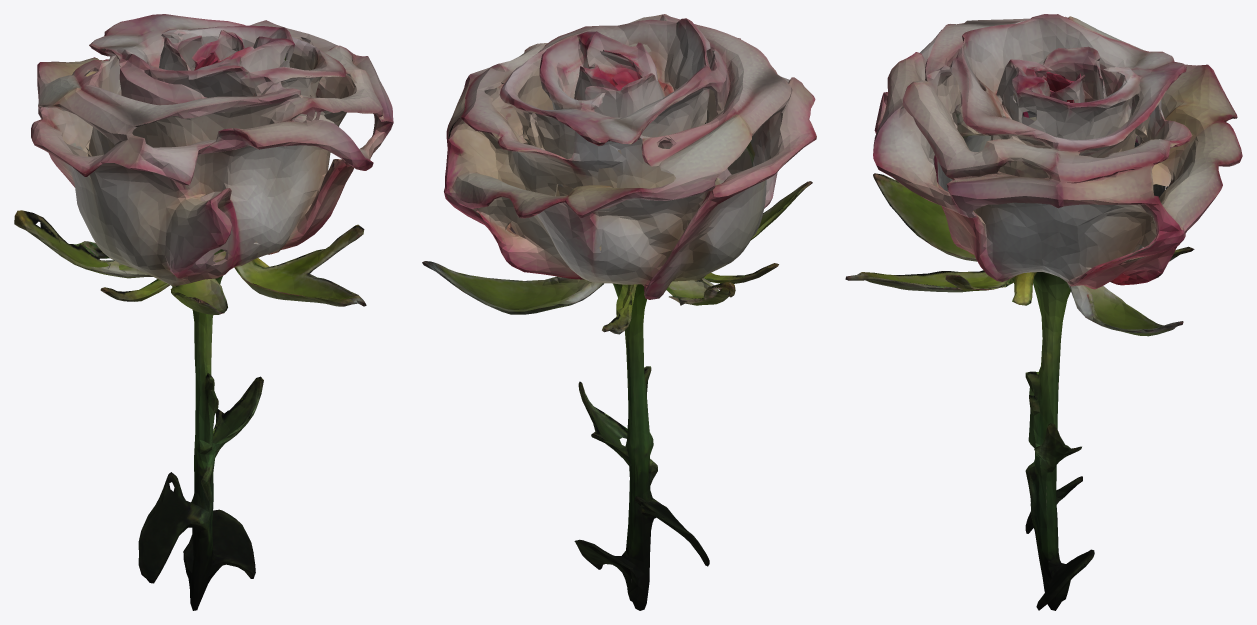
3 views of the same model, side by side, from view 1: azimuth 30°, elevation 25°; view 2: azimuth 150°, elevation 25°; view 3: azimuth 270°, elevation 25° (orthographic). The views are drawn at different scales.
Parts seen in each view (by area): view 1: world; view 2: world; view 3: world.
Boxes of the visible parts, bbox=[...] form: world: bbox=[14, 14, 393, 610]; world: bbox=[422, 14, 816, 610]; world: bbox=[845, 14, 1242, 610].
Bounding box in the file's own units: 0.5794 × 0.9726 × 0.6091.
1 material, 1 textured.
